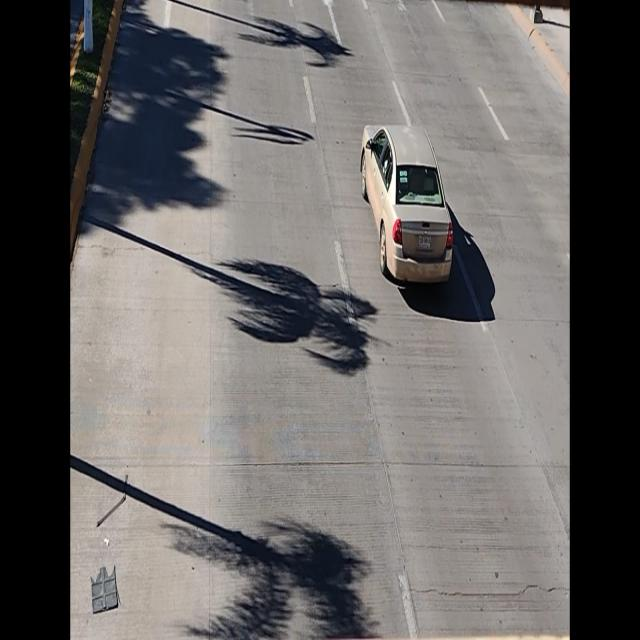Auto: (361, 118, 457, 296)
